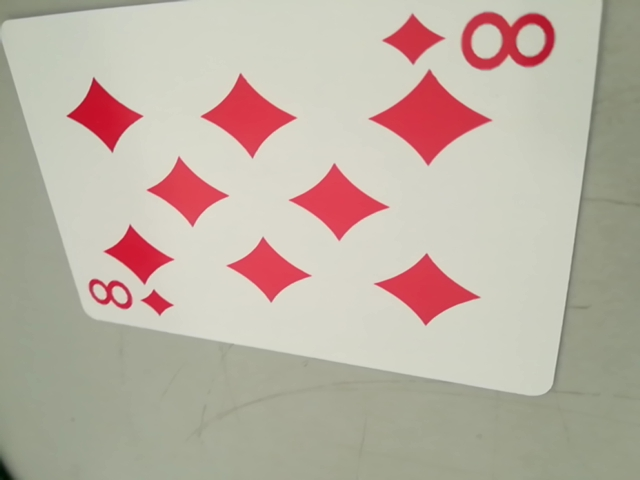fk 8: (387, 1, 559, 80), (83, 275, 175, 320)
